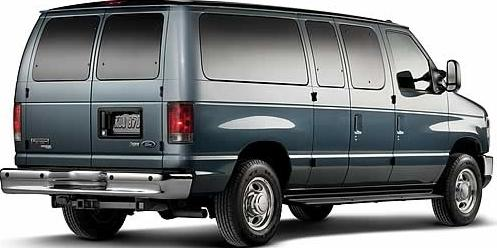back_view: (12, 90, 210, 202)
backlight: (165, 94, 208, 160)
side_glass: (302, 15, 448, 99)
